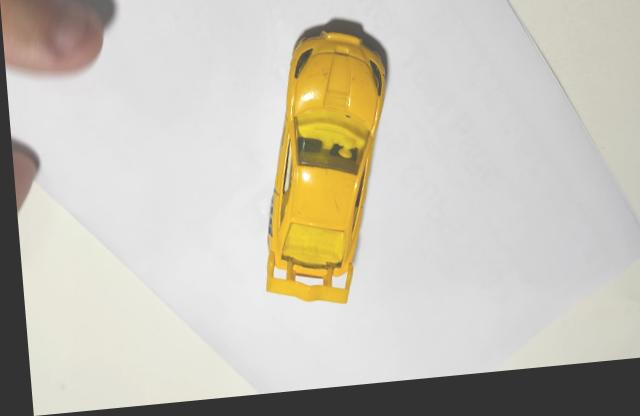07_RHLTURBO: (260, 23, 387, 310)
